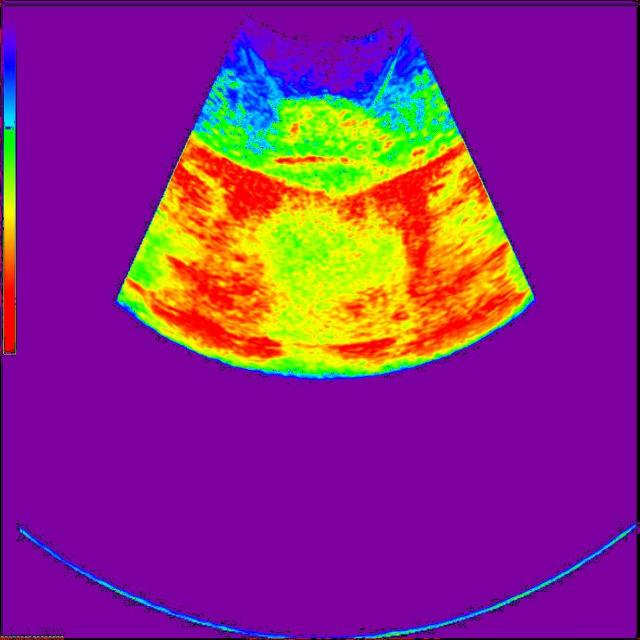chicken muscle post: (280, 97, 396, 164)
